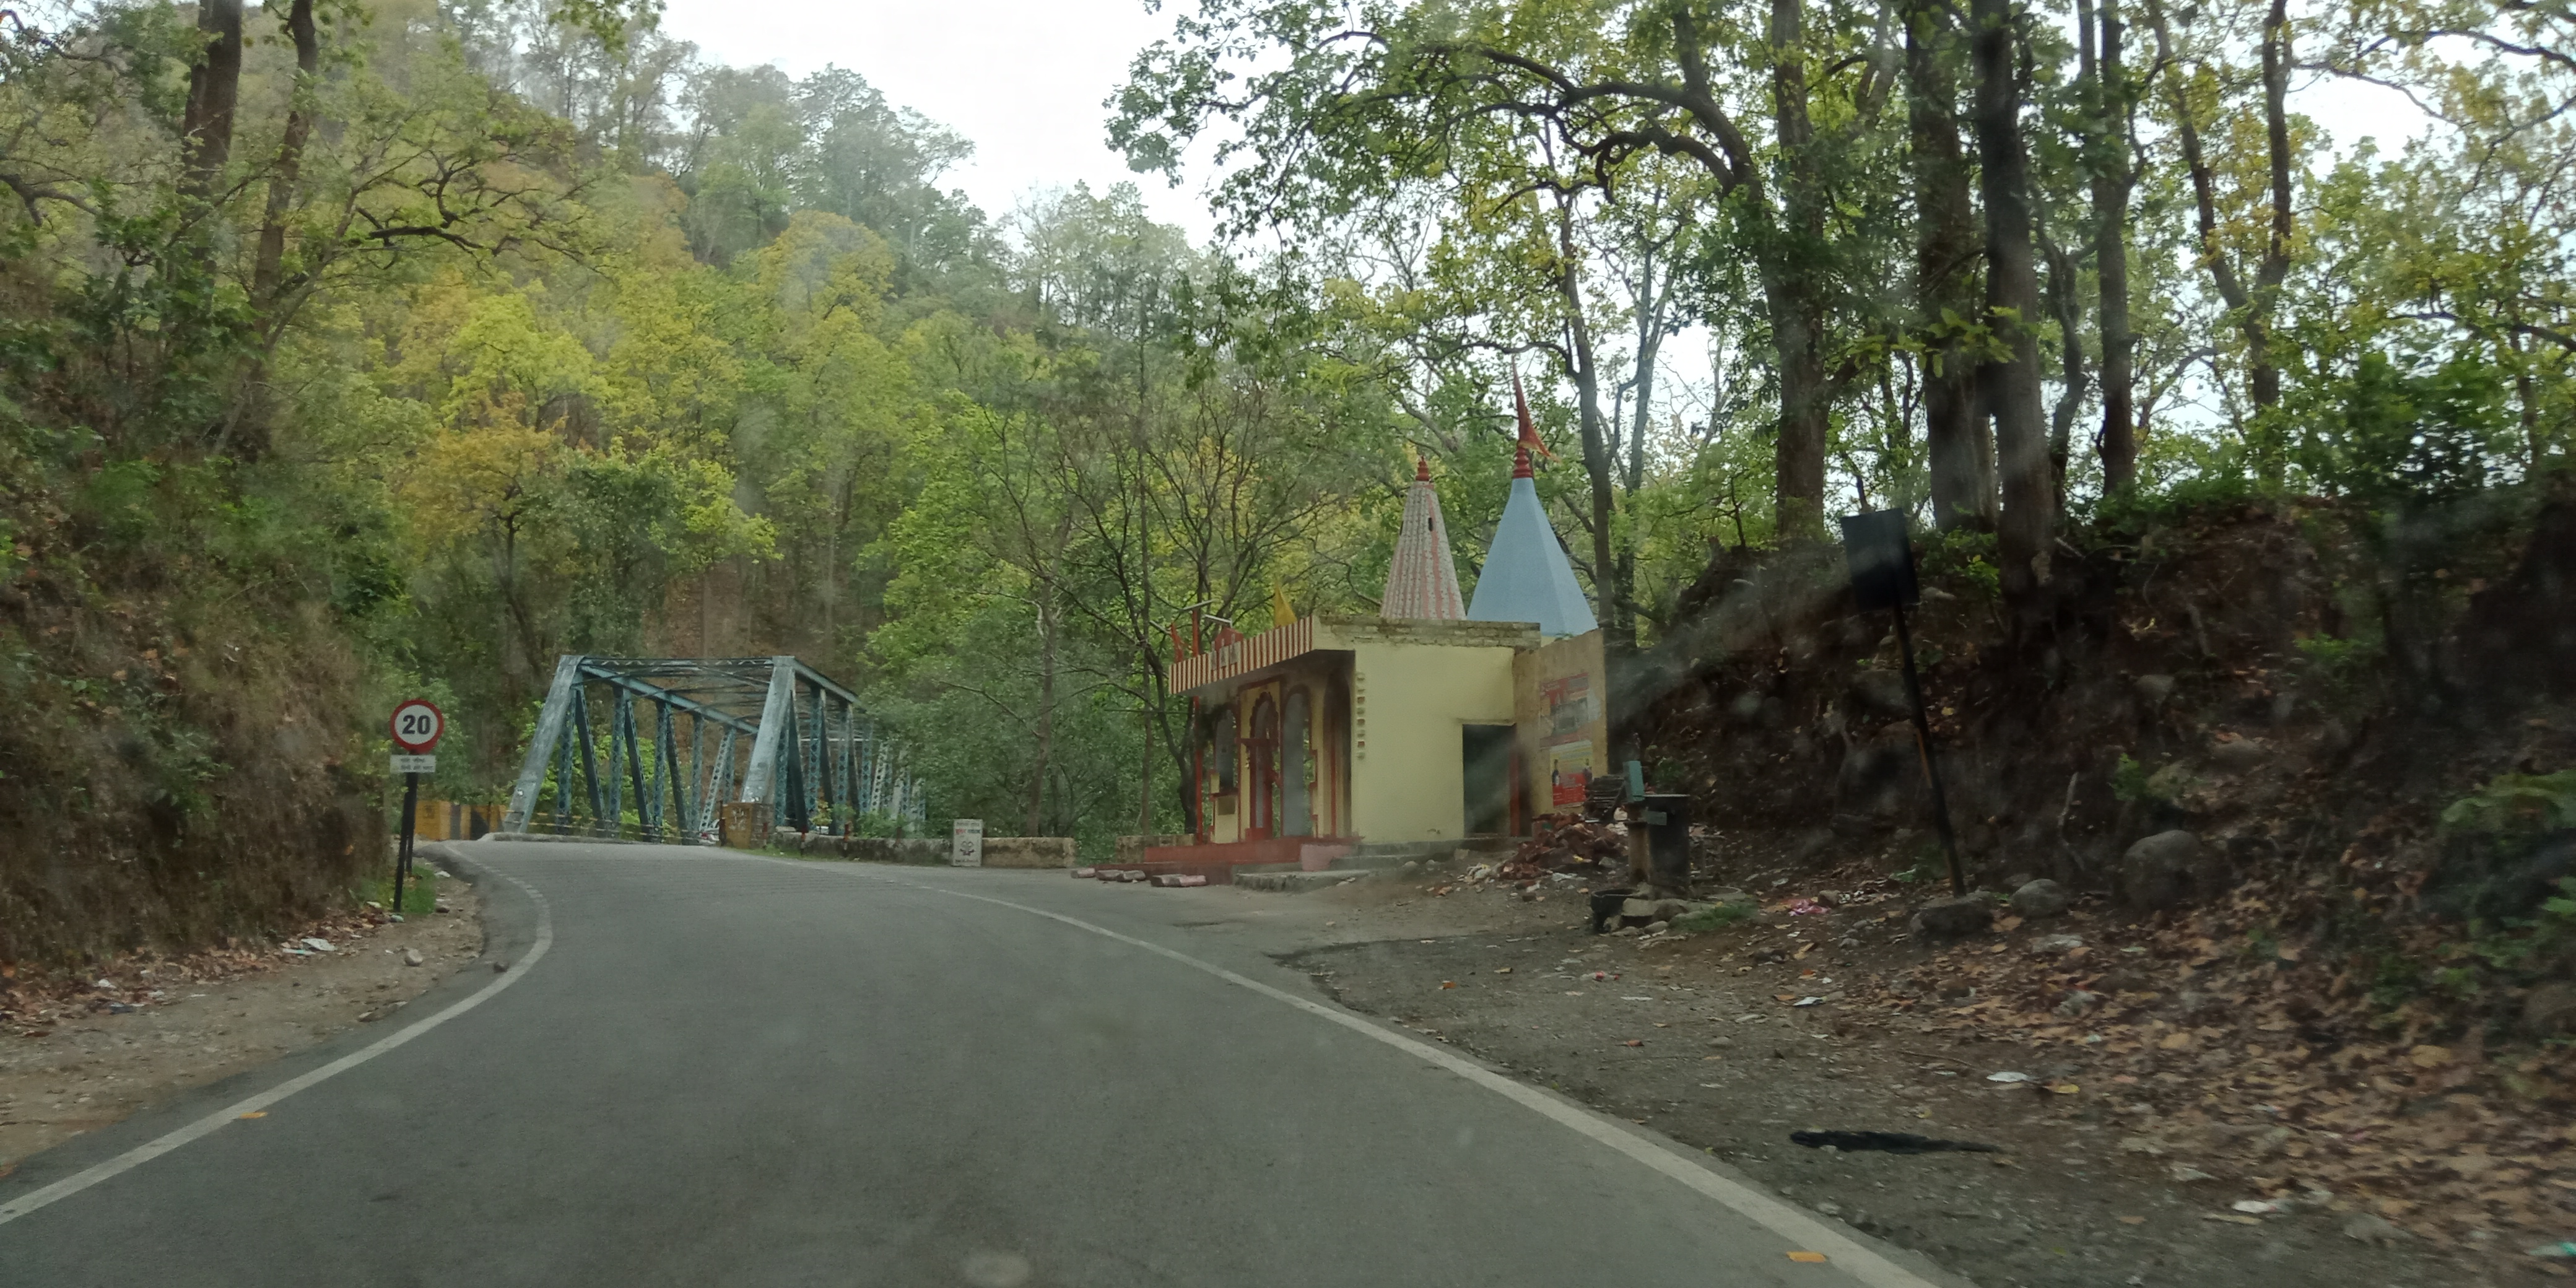traffic_sign: (389, 700, 440, 751)
